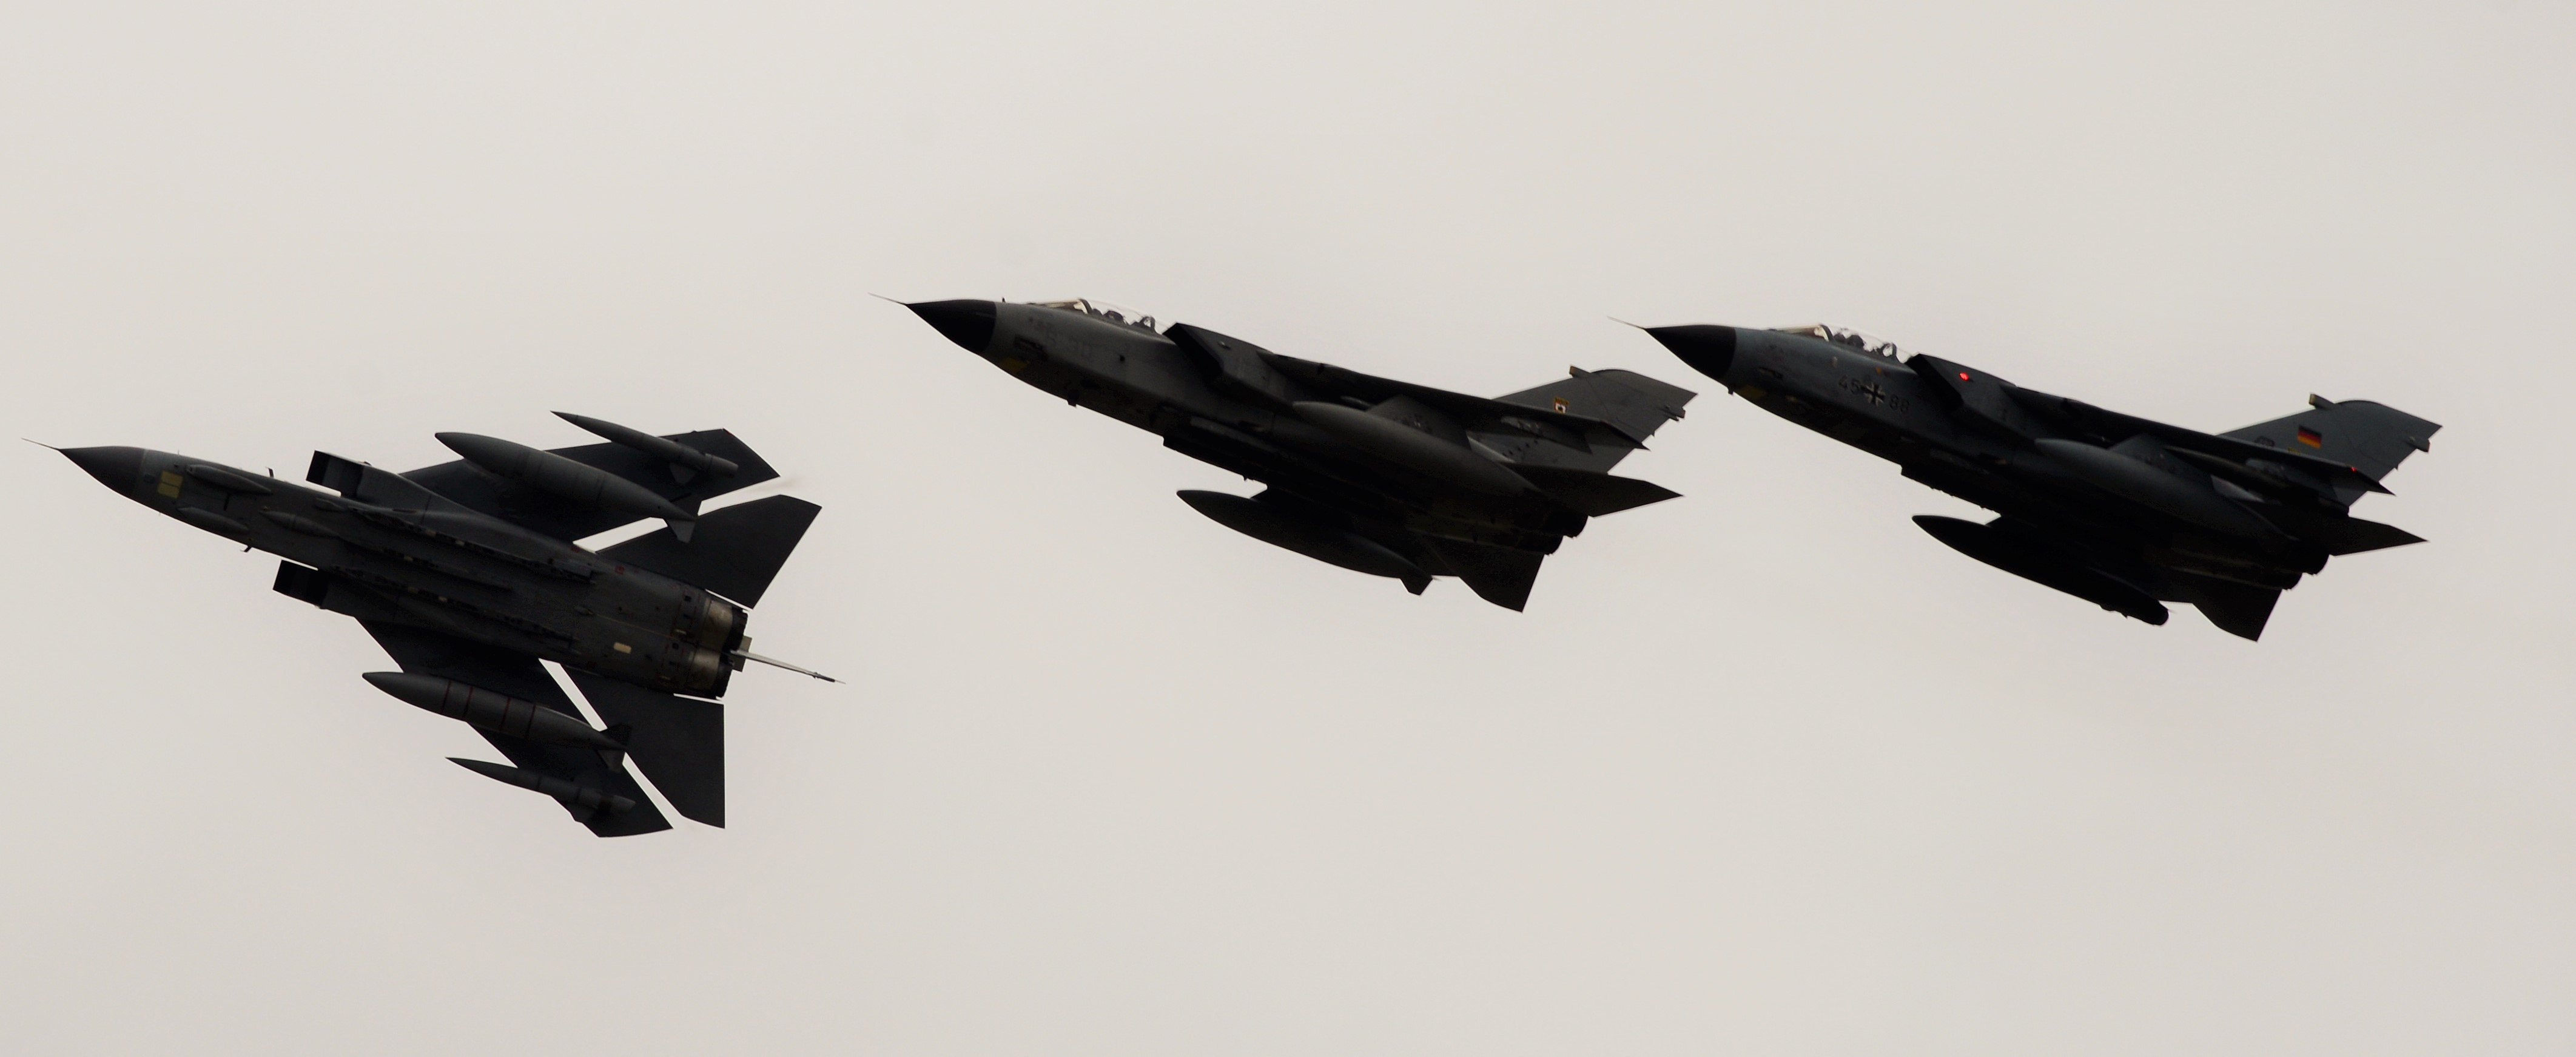Tornado: (21, 409, 848, 838), (1605, 314, 2443, 644), (867, 291, 1699, 615)
